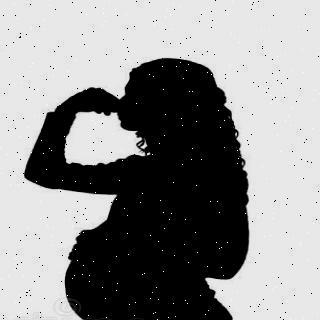smoke: (0, 28, 20, 105)
